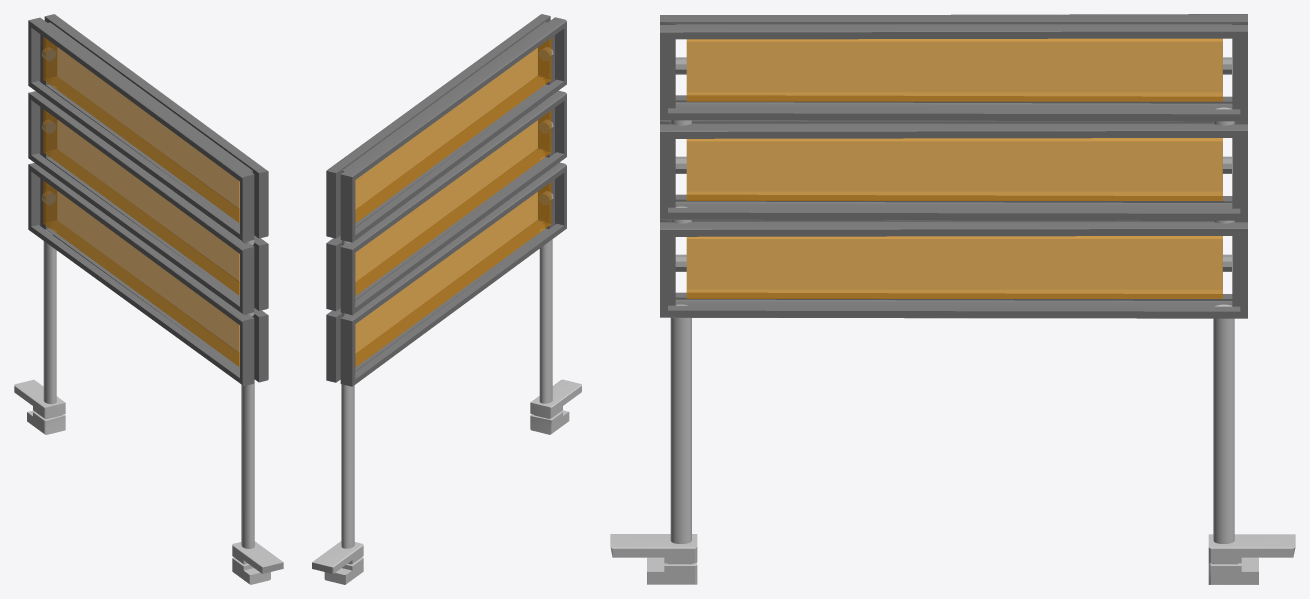
Rendered from highObstacle.fbx.
3 renders of one model, left to right at view 1: azimuth 30°, elevation 25°; view 2: azimuth 150°, elevation 25°; view 3: azimuth 270°, elevation 25°, orthographic. The views are drawn at different scales.
Parts seen in each view (by area): view 1: pCube1 (×3), pCube2 (×3), leg1, leg, plankFeet1, plankFeet; view 2: pCube1 (×3), pCube2 (×3), leg, leg1, plankFeet, plankFeet1; view 3: pCube2 (×3), pCube1 (×3), leg, leg1, plankFeet1, plankFeet.
Boxes of the visible parts, bbox=[...] form: pCube1 (×3): bbox=[28, 14, 268, 385]; pCube2 (×3): bbox=[43, 37, 239, 366]; leg1: bbox=[241, 379, 254, 548]; leg: bbox=[43, 229, 56, 404]; plankFeet1: bbox=[14, 379, 65, 434]; plankFeet: bbox=[232, 541, 283, 584]; pCube1 (×3): bbox=[326, 14, 566, 386]; pCube2 (×3): bbox=[355, 38, 551, 367]; leg: bbox=[341, 384, 354, 548]; leg1: bbox=[539, 229, 552, 403]; plankFeet: bbox=[530, 379, 581, 434]; plankFeet1: bbox=[312, 541, 363, 584]; pCube2 (×3): bbox=[686, 38, 1222, 298]; pCube1 (×3): bbox=[660, 14, 1247, 318]; leg: bbox=[1213, 304, 1234, 543]; leg1: bbox=[670, 304, 691, 544]; plankFeet1: bbox=[1208, 534, 1295, 584]; plankFeet: bbox=[610, 534, 697, 584].
Size of the model in its own units: 0.5381 by 7.97 by 8.9.
